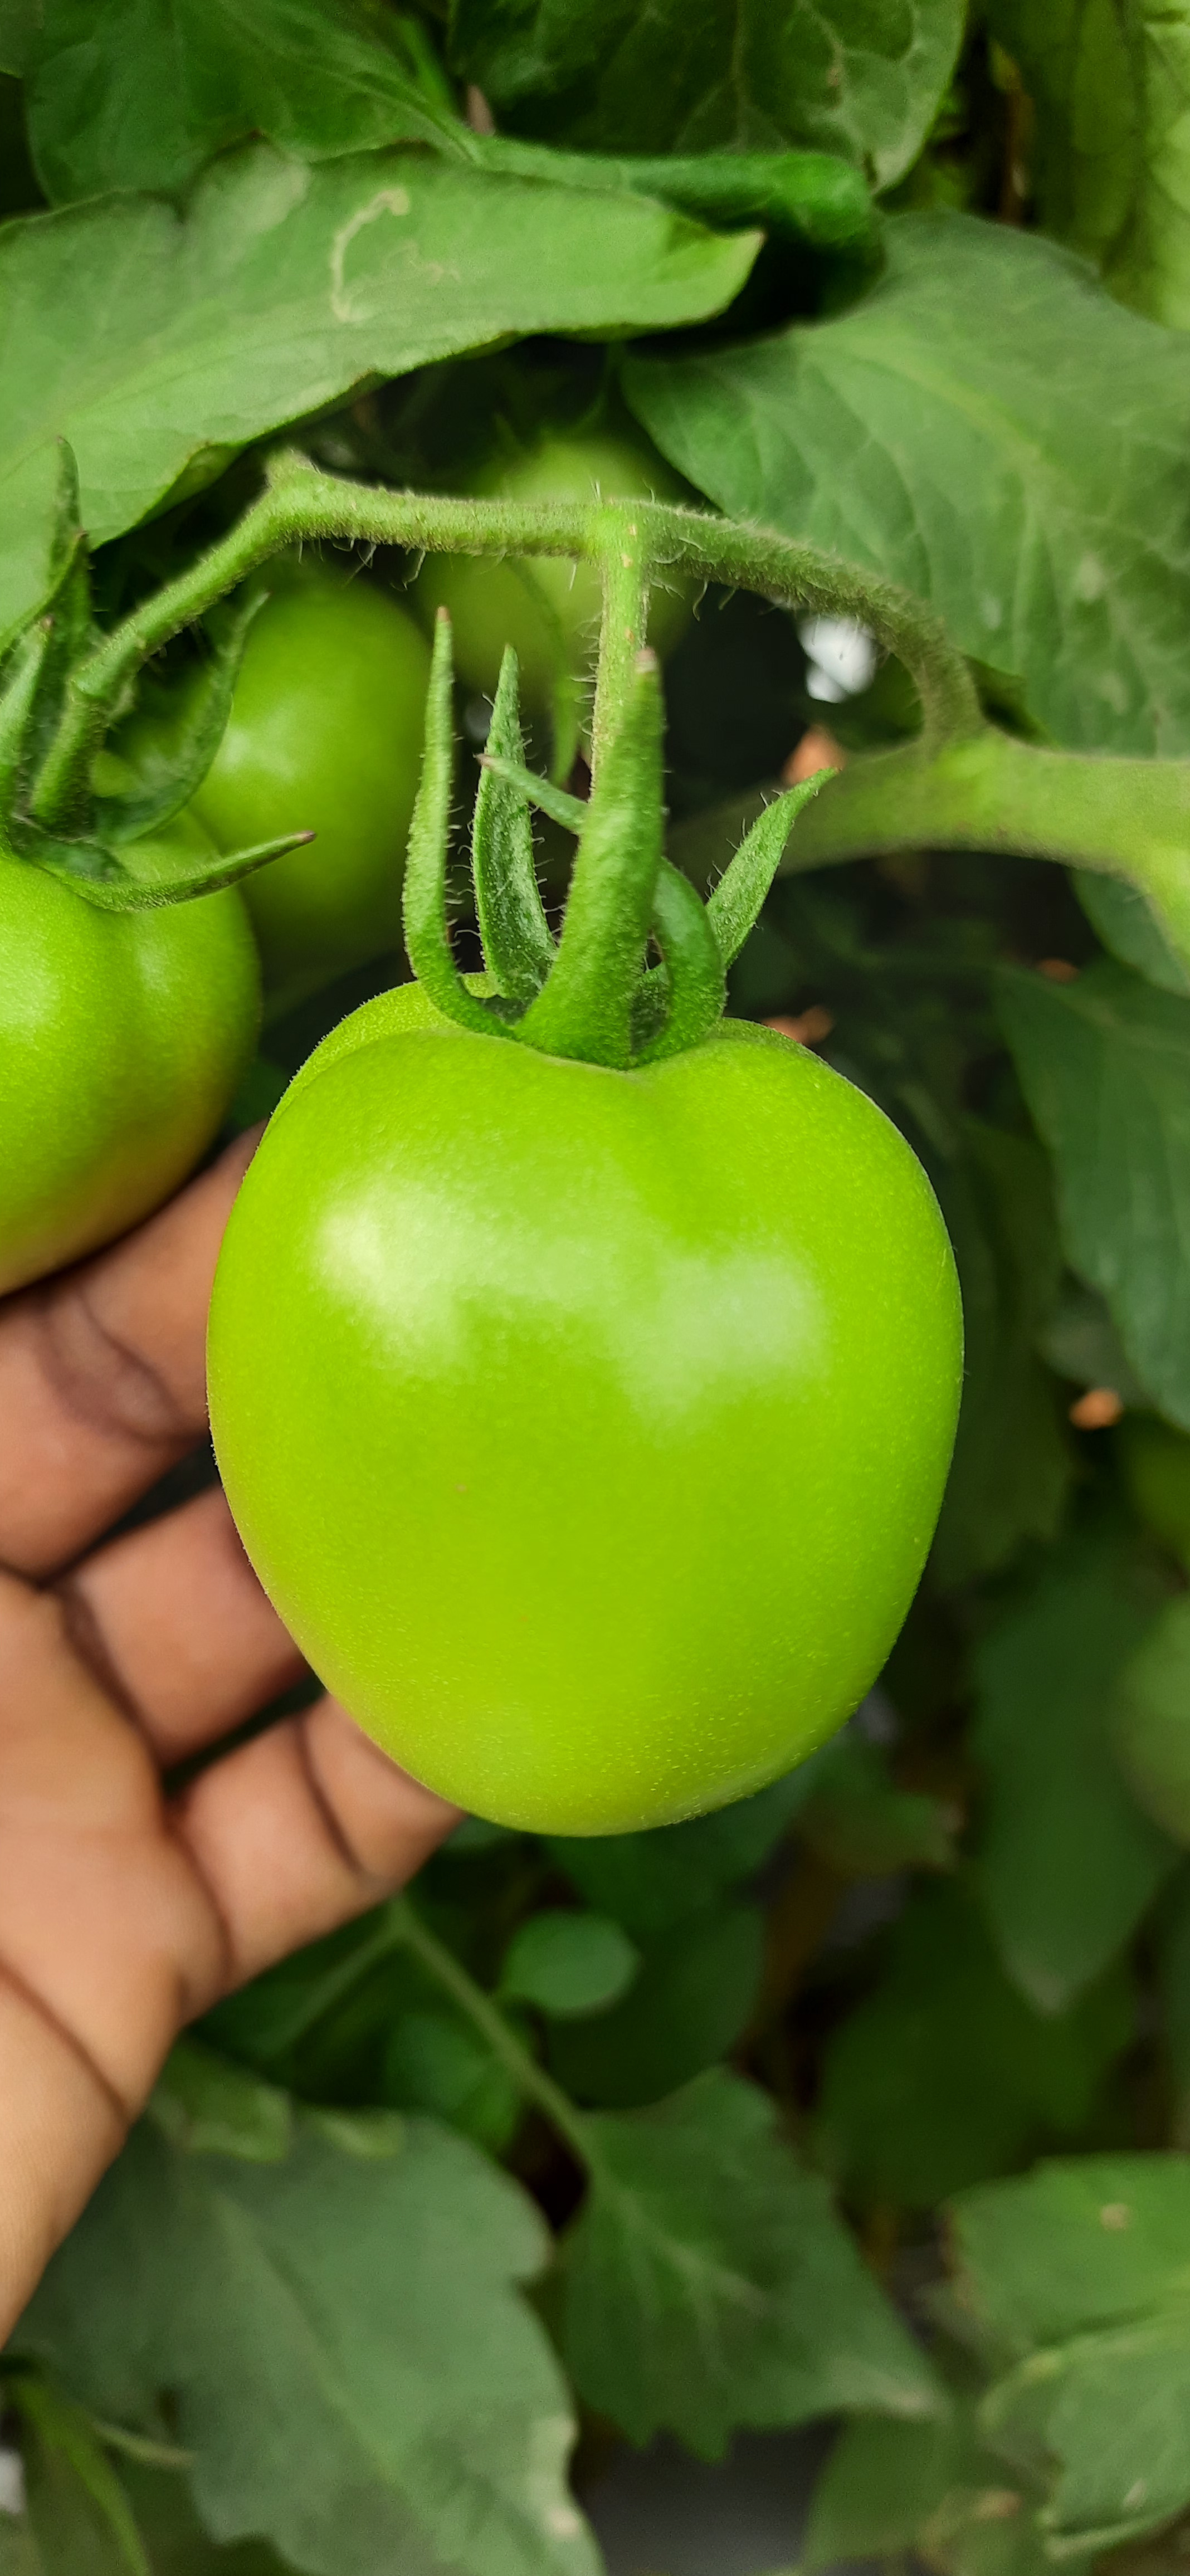raw_tomato: (166, 892, 996, 1871)
